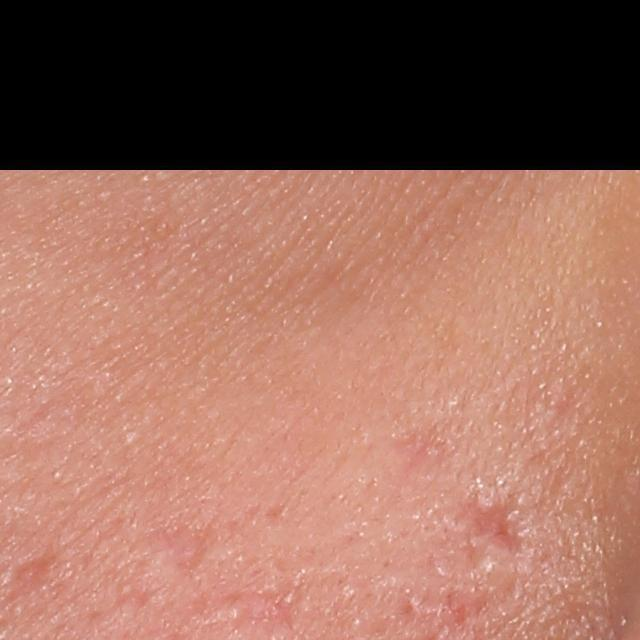atrophic_scar: (448, 481, 538, 568), (146, 521, 226, 574)
